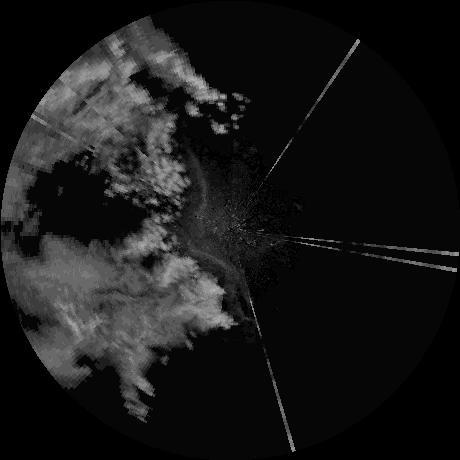frontgust: (221, 260, 251, 317), (191, 156, 210, 228)
